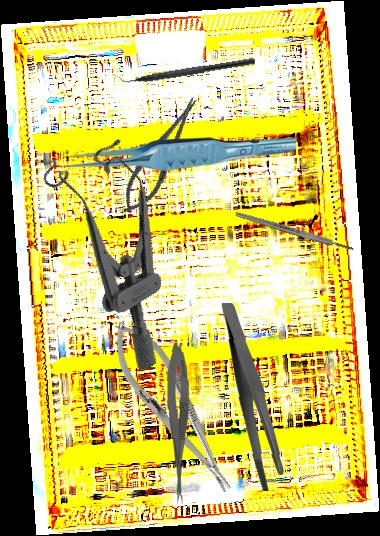Chopper: (110, 47, 257, 90)
Dressing Forceps: (217, 302, 288, 492)
Micro Scissor: (165, 342, 194, 505)
Needle Holder: (97, 310, 248, 505), (112, 90, 210, 222)
Scalpel Handle: (233, 209, 356, 254)
Speculum: (20, 120, 229, 373)
Tissue Forceps: (57, 135, 296, 171)
